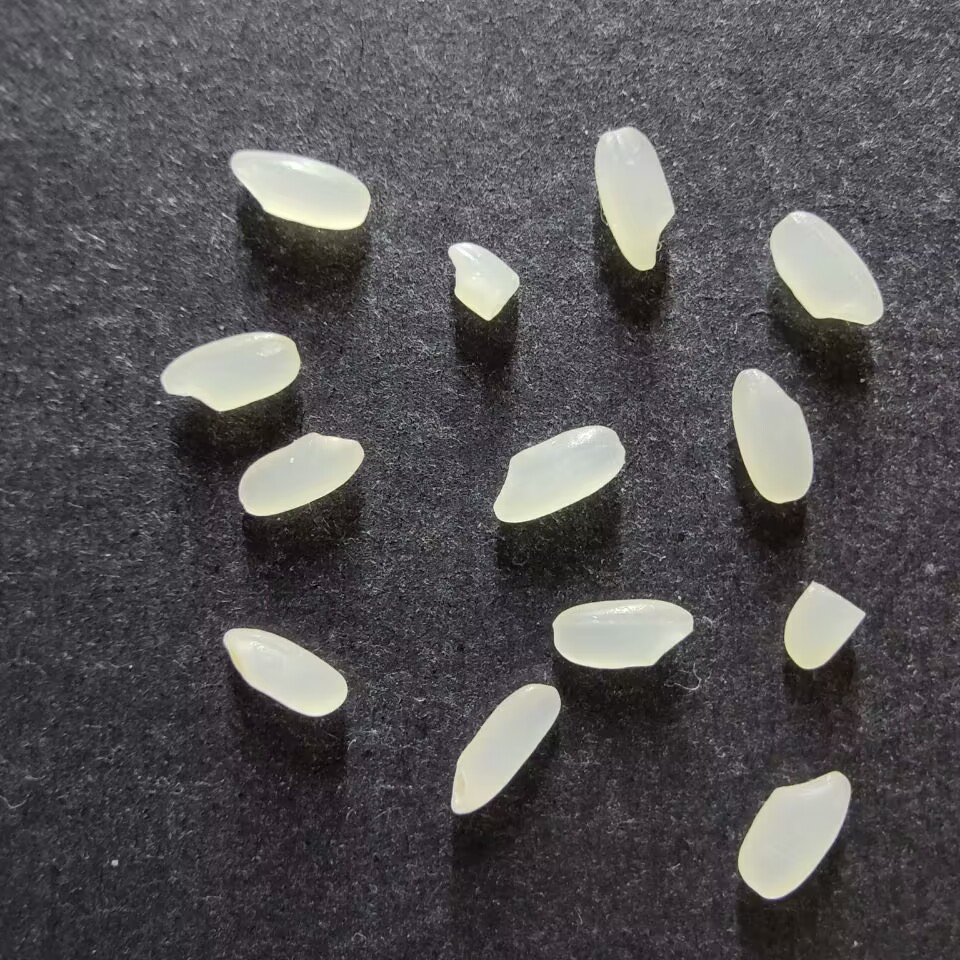broken: (782, 580, 865, 669), (447, 241, 520, 321)
rice: (449, 682, 562, 814), (736, 770, 850, 900), (768, 209, 884, 326), (492, 424, 626, 523), (593, 126, 675, 272), (229, 149, 371, 230), (222, 626, 348, 717), (160, 331, 300, 412), (730, 367, 813, 503), (237, 431, 364, 517), (552, 598, 694, 669)
